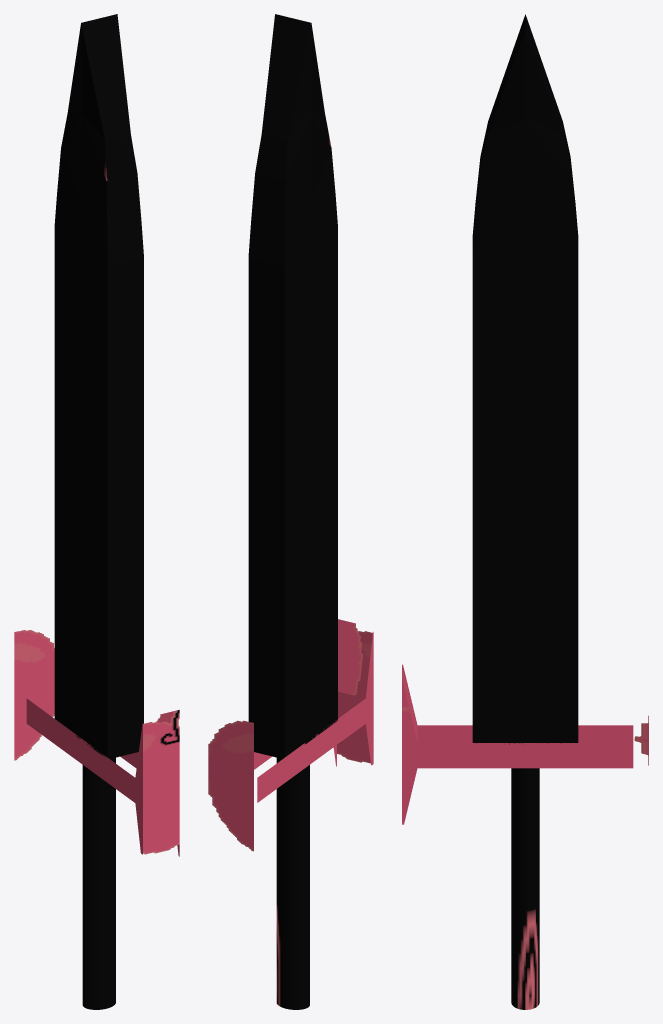
The model's file is sword.fbx.
The picture shows the model from 3 angles, left to right: view 1: azimuth 30°, elevation 25°; view 2: azimuth 150°, elevation 25°; view 3: azimuth 270°, elevation 25°; orthographic projection.
Parts seen in each view (by area): view 1: 立方体.001, 立方体, 円柱; view 2: 立方体.001, 立方体, 円柱; view 3: 立方体.001, 立方体, 円柱.
Part boxes in pixels (bbox=[...]): 立方体.001: bbox=[54, 14, 143, 758]; 立方体: bbox=[14, 630, 179, 856]; 円柱: bbox=[82, 757, 115, 1009]; 立方体.001: bbox=[248, 14, 337, 758]; 立方体: bbox=[208, 619, 373, 851]; 円柱: bbox=[276, 757, 309, 1009]; 立方体.001: bbox=[472, 14, 578, 744]; 立方体: bbox=[402, 664, 648, 824]; 円柱: bbox=[511, 768, 539, 1009].
Bounding box in the file's own units: 7.52 × 155 × 35.42.
